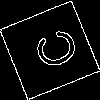C: (25, 25, 80, 76)
